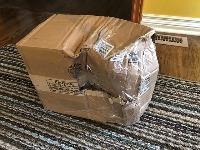damaged package: (66, 45, 115, 102)
undamaged: (11, 10, 158, 131)
